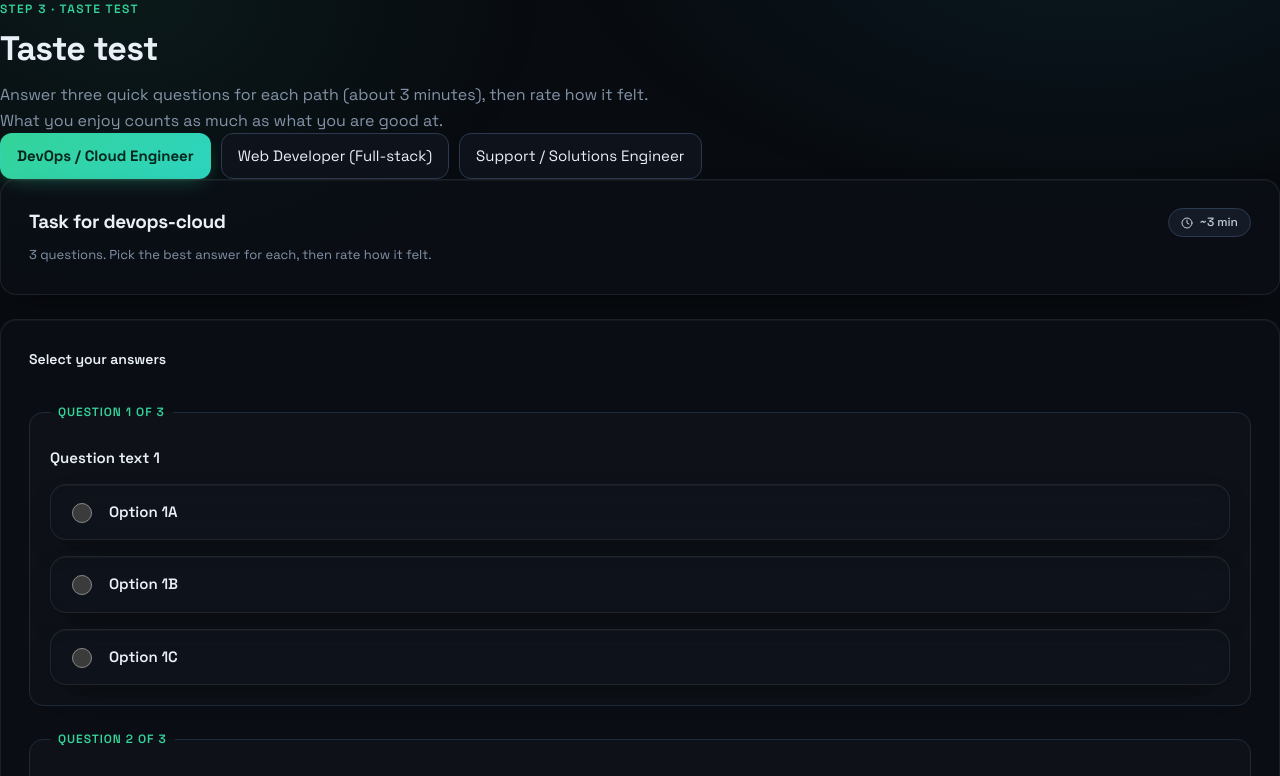
Test case: Taste test page › Submit stays disabled until ALL questions are answered AND an enjoyment rating is picked
Expected: the heading "Task for devops-cloud" is shown, [29, 211, 226, 234]
Click the radio button labelled "Option 1A" at (82, 513), box [72, 503, 92, 523]
(page scrolled)
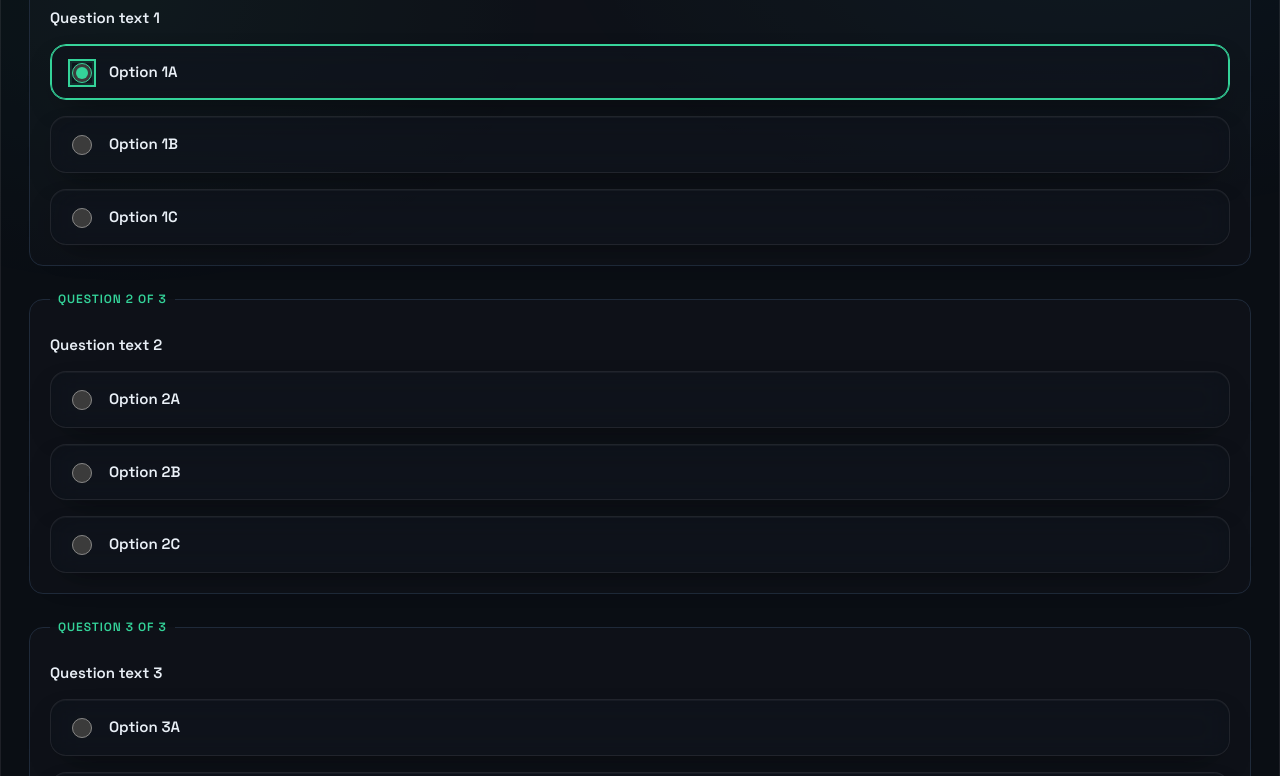
Click the radio button labelled "Option 2A" at (82, 400), box [72, 390, 92, 410]
(page scrolled)
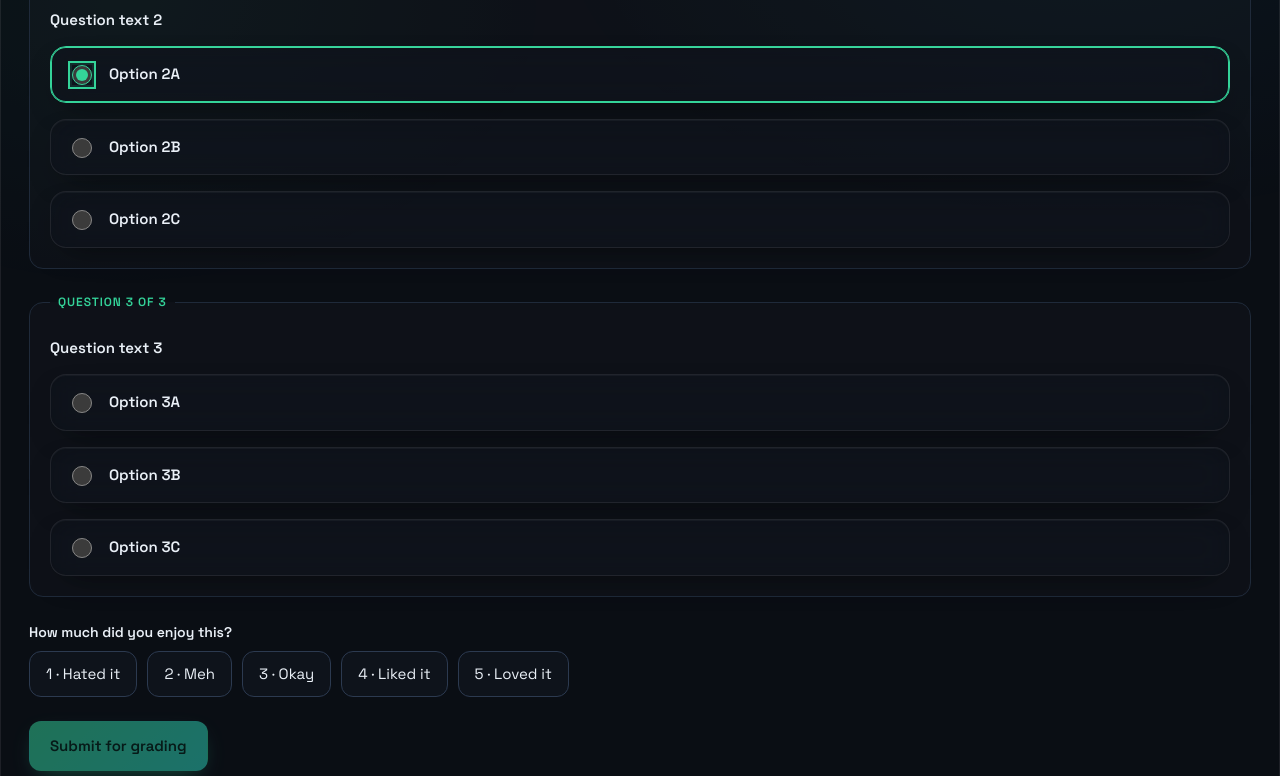
Click the button "4 · Liked it" at (394, 674), box [341, 651, 448, 697]
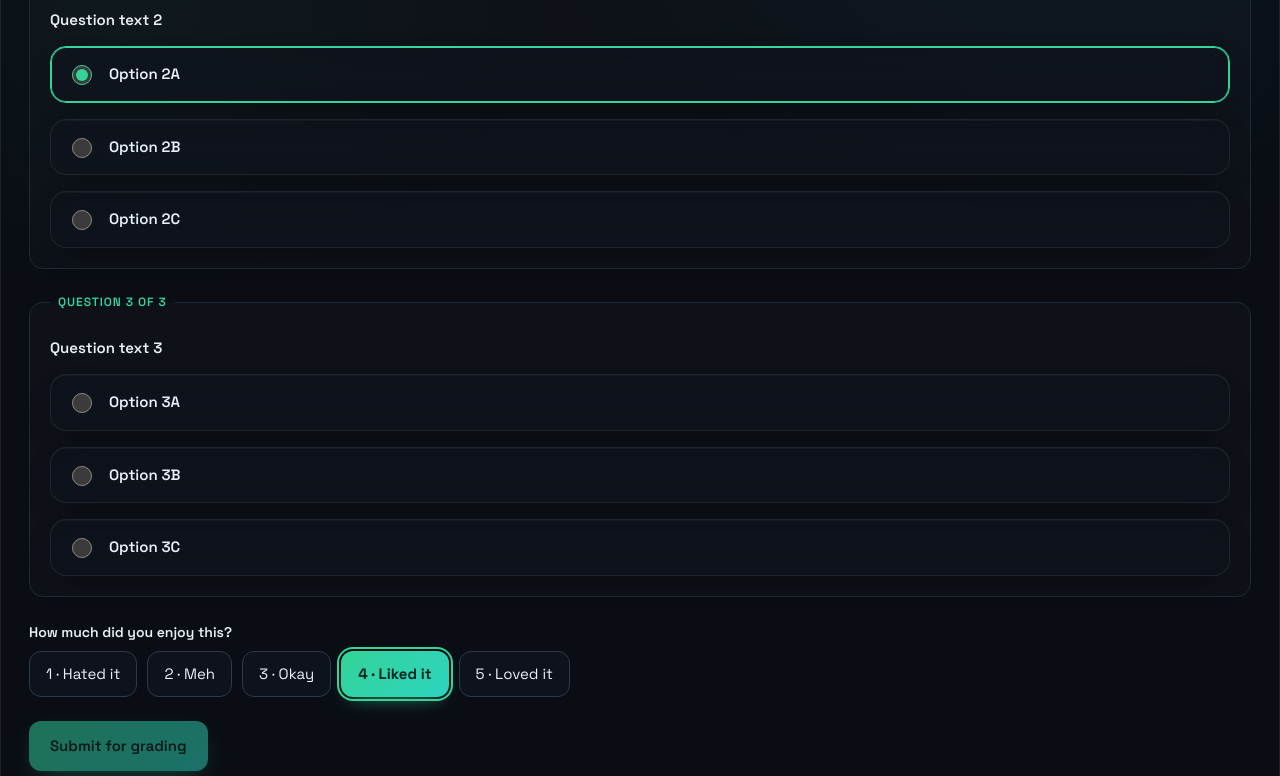
Expected: the button "Submit for grading" is disabled, [29, 721, 208, 771]
Click the radio button labelled "Option 3A" at (82, 403), box [72, 393, 92, 413]
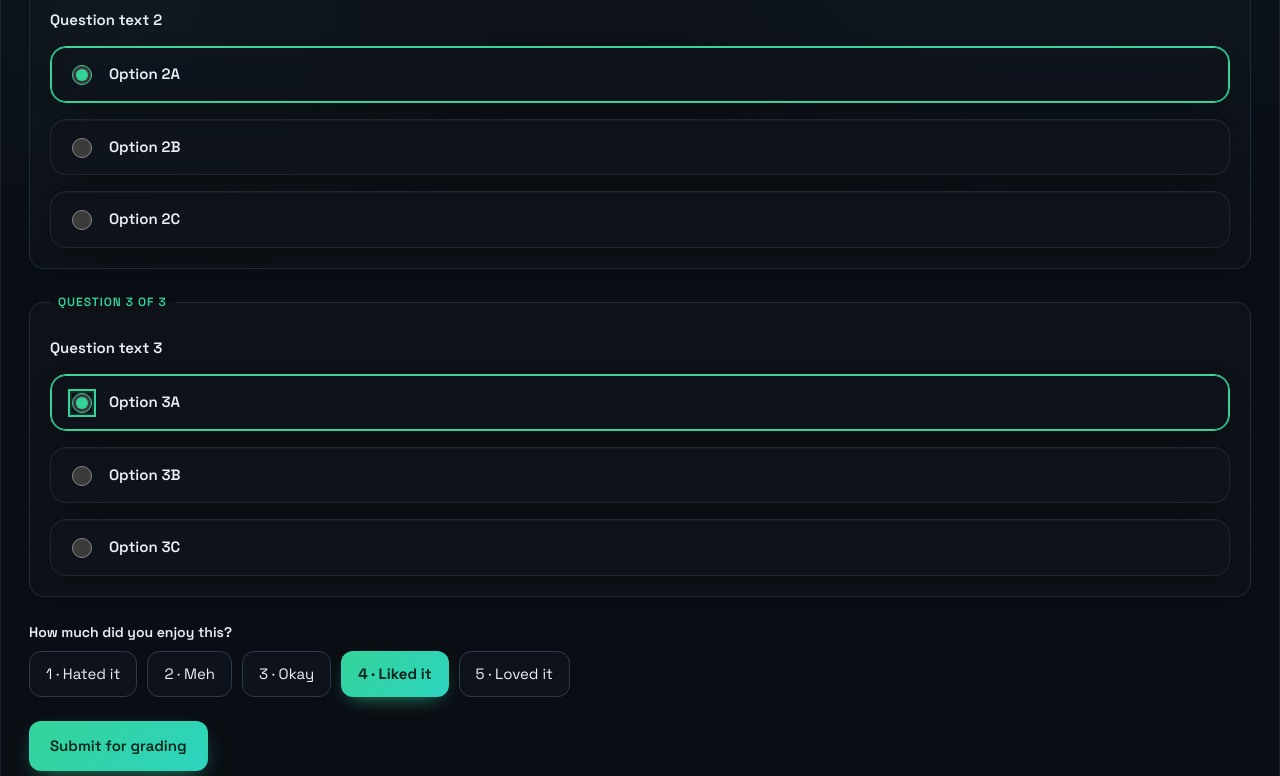
Expected: the button "Submit for grading" is enabled, [29, 721, 208, 771]
